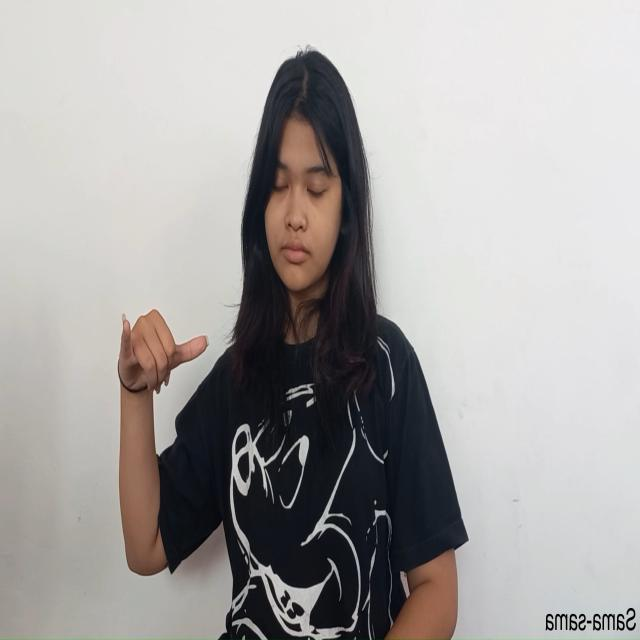Sama-sama -BISINDO-: (116, 304, 209, 407)
